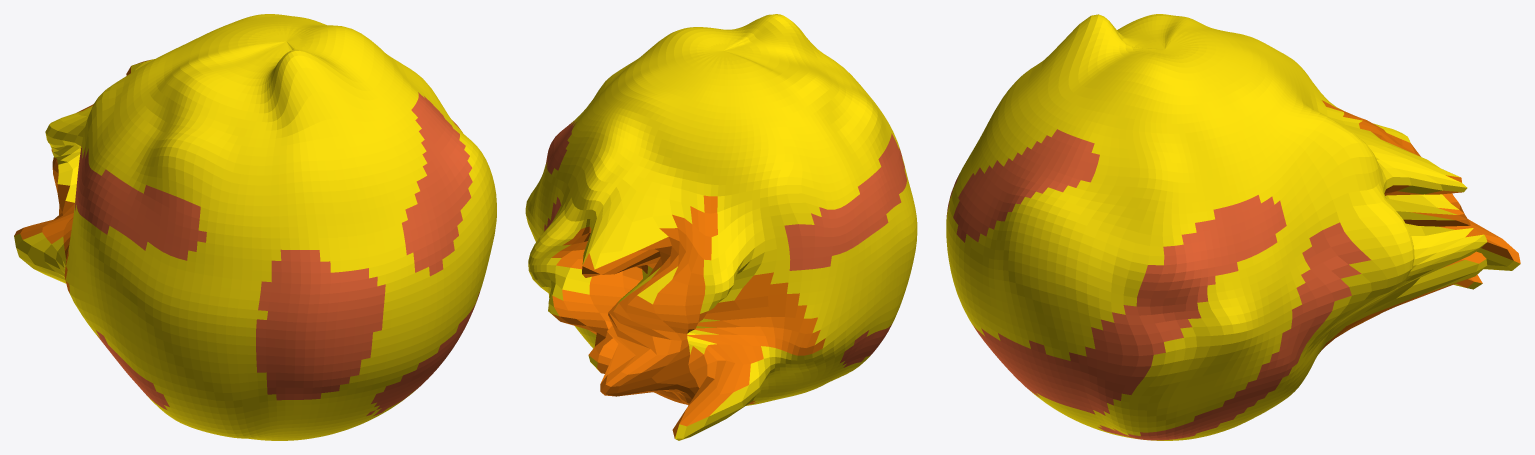
The model's file is DragonBullet.fbx.
3 views of the same model, side by side, from view 1: azimuth 30°, elevation 25°; view 2: azimuth 150°, elevation 25°; view 3: azimuth 270°, elevation 25° (orthographic). The views are drawn at different scales.
Visible parts, largest first — view 1: DragonFire; view 2: DragonFire; view 3: DragonFire.
Boxes of the visible parts, x1,y1,x2,y2 form: DragonFire: (14,14,496,440); DragonFire: (525,14,917,440); DragonFire: (946,14,1520,440).
Bounding box in the file's own units: 2.03 × 2.73 × 2.06.
